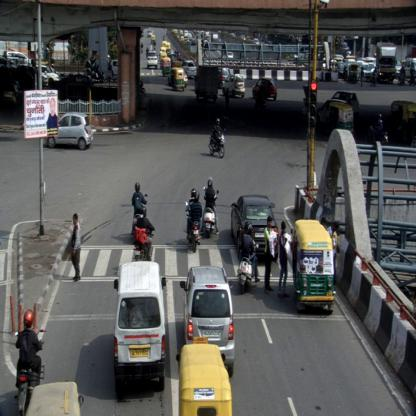car: (115, 263, 167, 394), (181, 266, 231, 374), (231, 197, 278, 259), (48, 112, 92, 152), (253, 77, 277, 100), (223, 75, 246, 96), (147, 50, 158, 70), (359, 61, 370, 81)
motorcycle: (16, 307, 46, 414), (237, 220, 260, 293), (184, 187, 202, 253), (202, 176, 220, 242), (208, 118, 226, 160)
truck: (194, 66, 219, 102), (376, 42, 396, 84)
